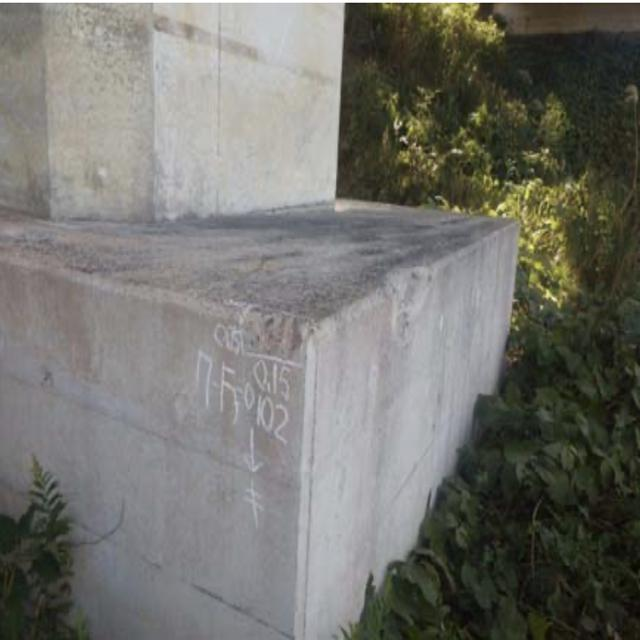spalling: (238, 298, 323, 373), (372, 257, 442, 339)
